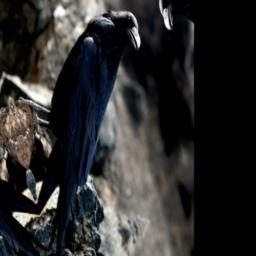Crow: (2, 0, 182, 256)
